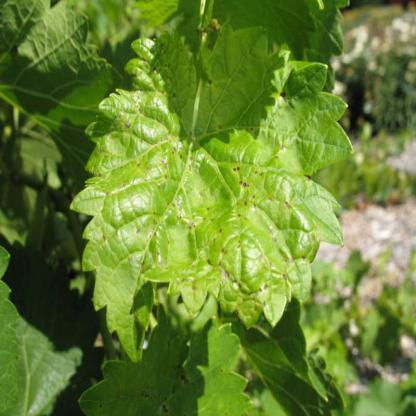grape leaf: (70, 17, 366, 372)
